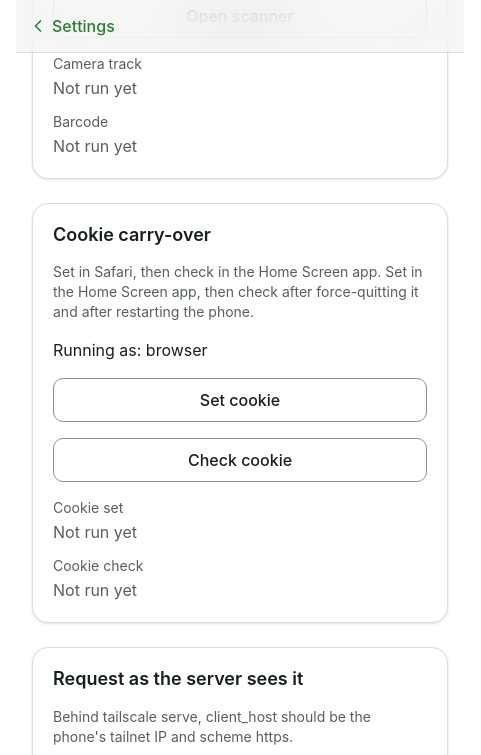
DiagnosticsScreen › works signed out and collects the environment, the server view and the cookie test
The width and height of the screenshot is (481, 755).
(page scrolled)
Click the button "Set cookie".
click(240, 400)  # box [53,378,427,422]
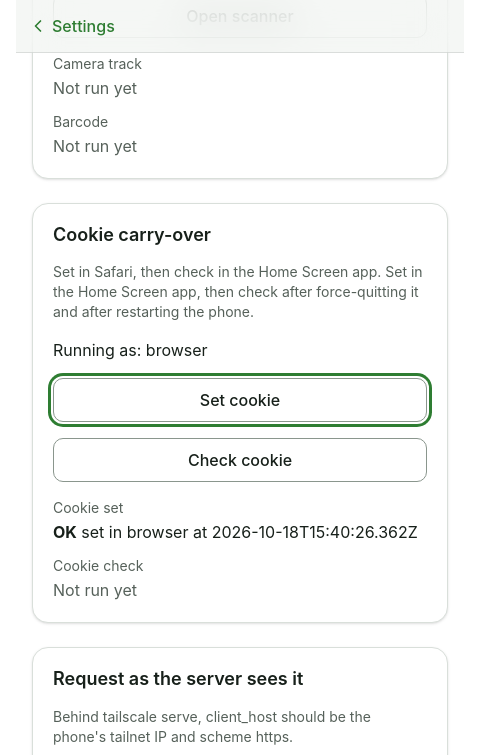
Now the element with test id "diag-result" shows "OK set in browser", box [53,498,427,544]
Click the button "Check cookie".
click(240, 460)  # box [53,438,427,482]
(page scrolled)
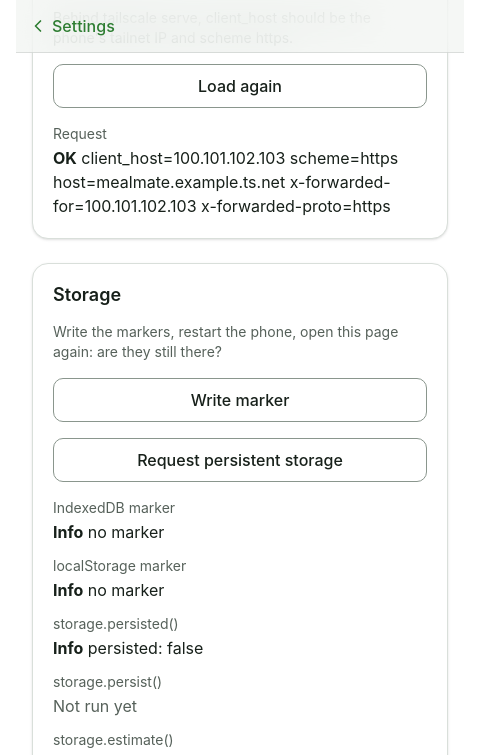
Click the button "Write marker".
click(240, 400)  # box [53,378,427,422]
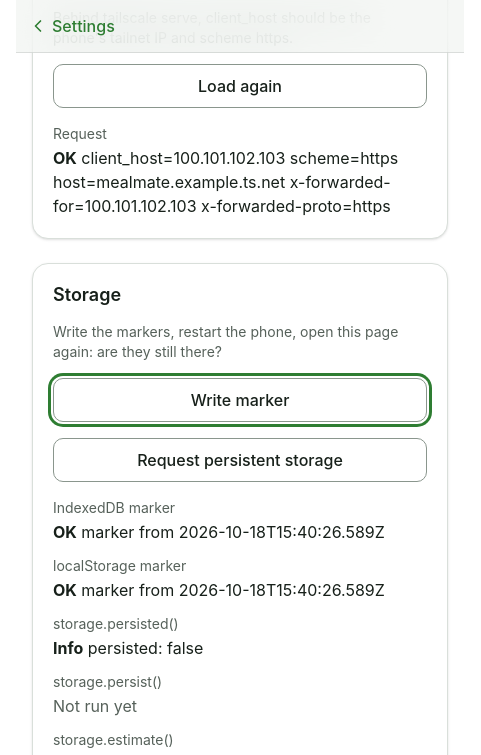
Expected: the element with test id "diag-result" shows "host=mealmate.example.ts.net", [53,148,398,216]
Now the element with test id "diag-result" reads "localStorage marker OK marker from 2026-10-18T15:40:26.589Z", box [53,556,427,602]
